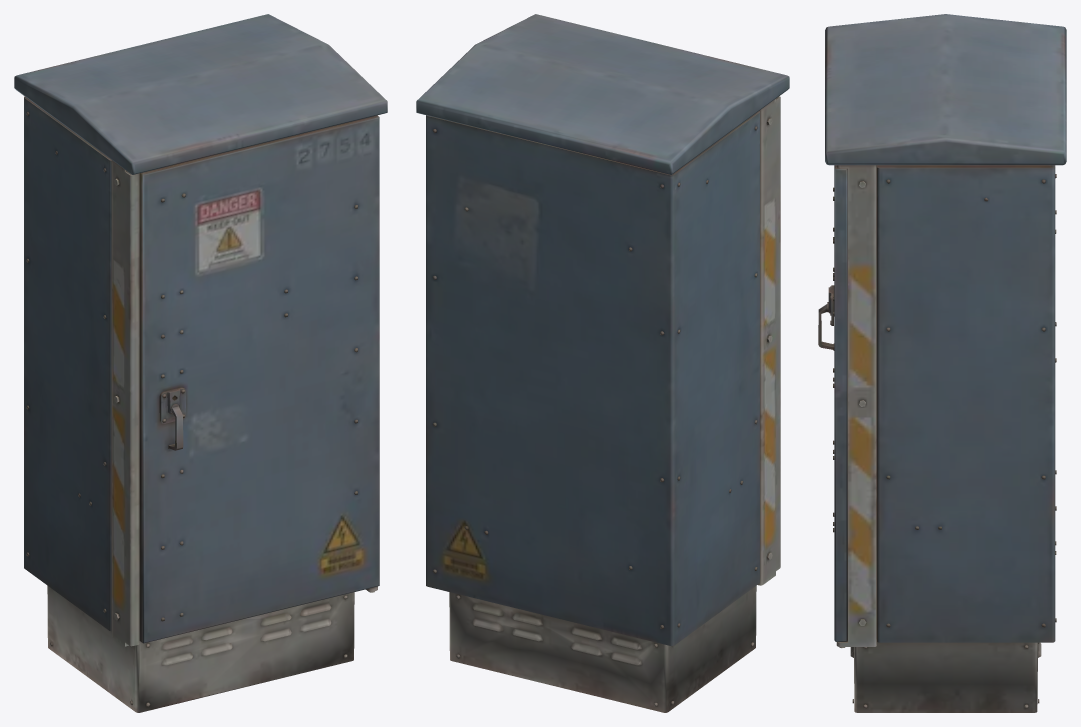
File: ph_utility_box_01.glb
3 renders of one model, left to right at view 1: azimuth 30°, elevation 25°; view 2: azimuth 150°, elevation 25°; view 3: azimuth 270°, elevation 25°, orthographic.
Visible parts, largest first — view 1: utility_box_01_box; view 2: utility_box_01_box; view 3: utility_box_01_box.
Part boxes in pixels (x1=…): utility_box_01_box: x1=14, y1=14, x2=387, y2=712; utility_box_01_box: x1=416, y1=14, x2=789, y2=712; utility_box_01_box: x1=818, y1=14, x2=1066, y2=712.
Size of the model in its own units: 0.52 by 1.12 by 0.432.
1 material, 1 textured.
